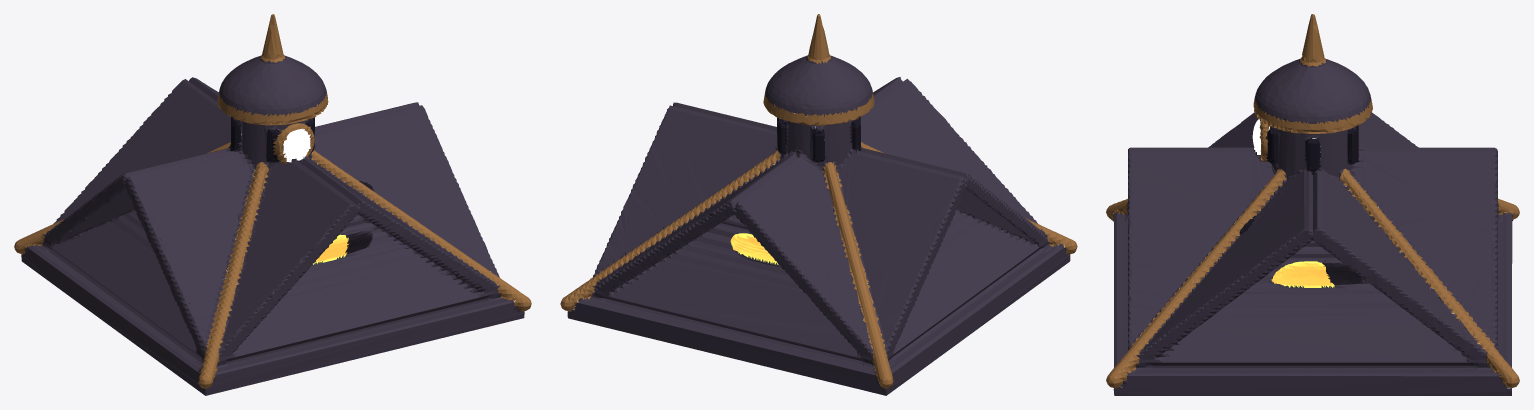
The model's file is lantern_hero_roof.glb.
3 views of the same model, side by side, from view 1: azimuth 30°, elevation 25°; view 2: azimuth 150°, elevation 25°; view 3: azimuth 270°, elevation 25° (orthographic). The views are drawn at different scales.
Parts seen in each view (by area): view 1: lantern_hero_roof; view 2: lantern_hero_roof; view 3: lantern_hero_roof.
Boxes of the visible parts, <box> form: lantern_hero_roof: <box>14,14,531,395</box>; lantern_hero_roof: <box>560,14,1077,395</box>; lantern_hero_roof: <box>1106,14,1519,395</box>.
Size of the model in its own units: 0.412 by 0.328 by 0.412.
